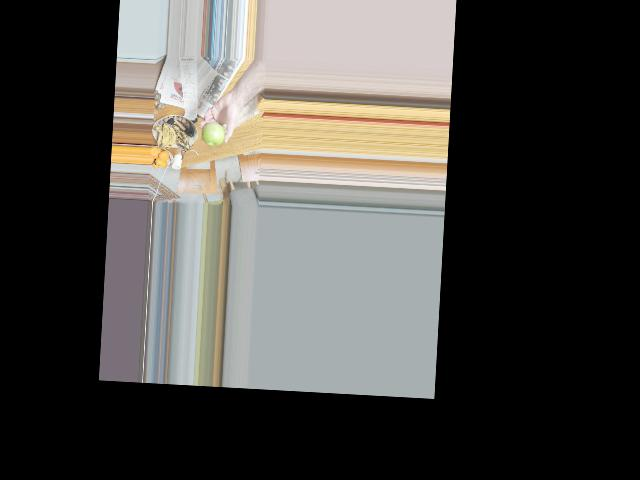apple: (204, 121, 227, 146)
